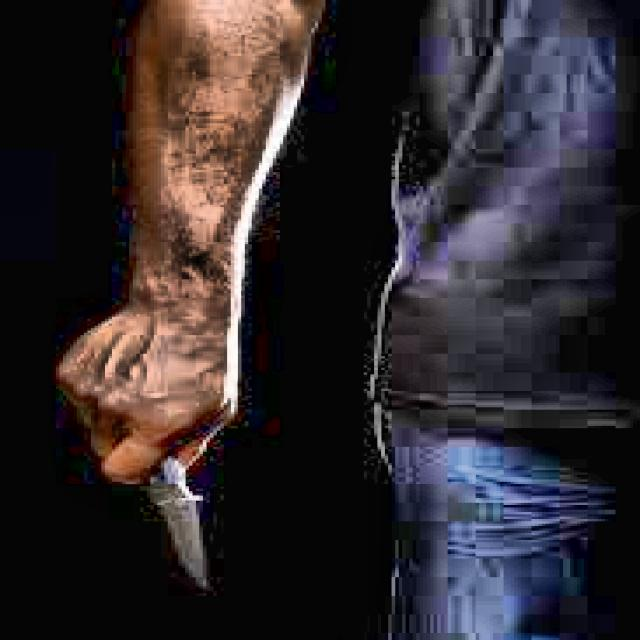knife: (152, 458, 215, 588)
